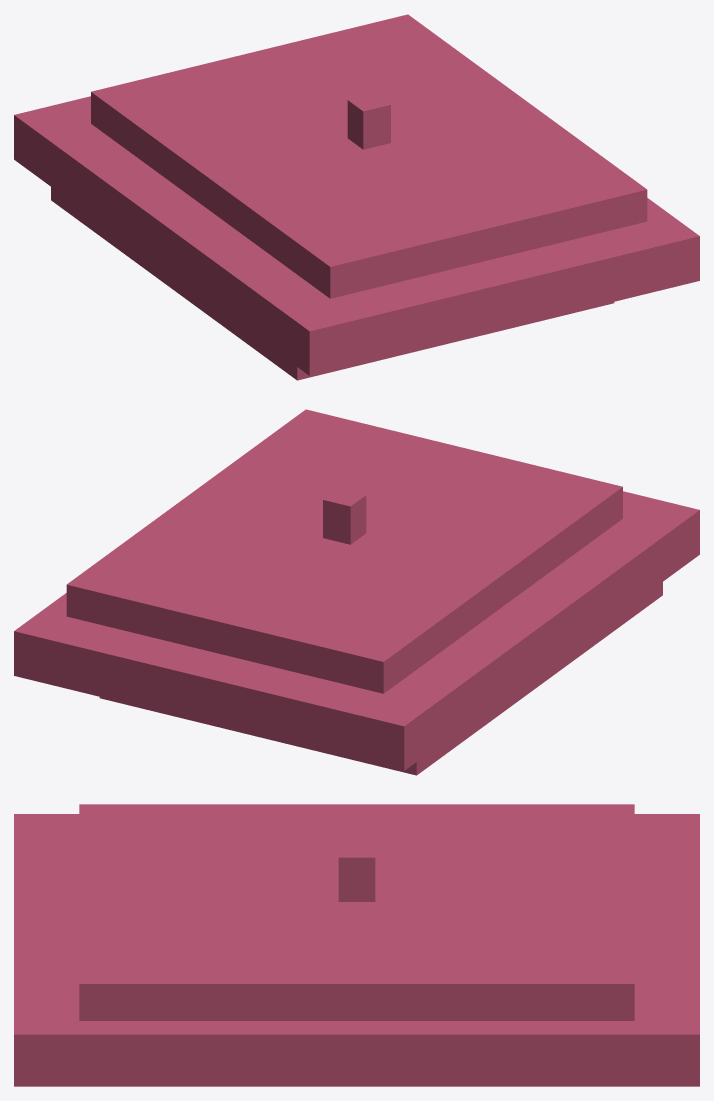
File: boina_bordo.glb
The picture shows the model from 3 angles, top to bottom: view 1: azimuth 30°, elevation 25°; view 2: azimuth 150°, elevation 25°; view 3: azimuth 270°, elevation 25°; orthographic projection. The views are drawn at different scales.
Parts seen in each view (by area): view 1: boina_bordo; view 2: boina_bordo; view 3: boina_bordo.
Boxes of the visible parts, x1,y1,x2,y2 form: boina_bordo: (14, 14, 699, 380); boina_bordo: (14, 409, 699, 775); boina_bordo: (14, 804, 699, 1086).
Bounding box in the file's own units: 0.64 × 0.22 × 0.84.
